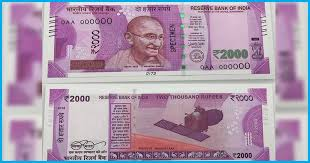twoThousand: (62, 14, 261, 64)
